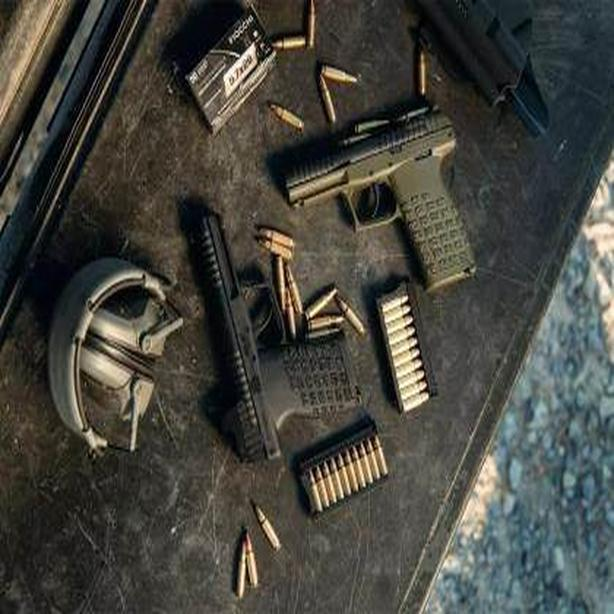Firearm: (159, 191, 378, 472), (269, 102, 506, 319)
